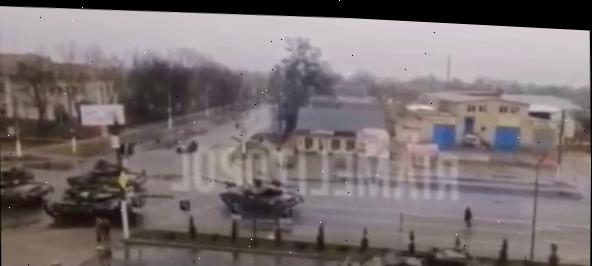tank: (42, 174, 146, 228), (61, 154, 176, 195), (338, 238, 502, 266), (216, 172, 305, 218), (0, 166, 51, 210)
